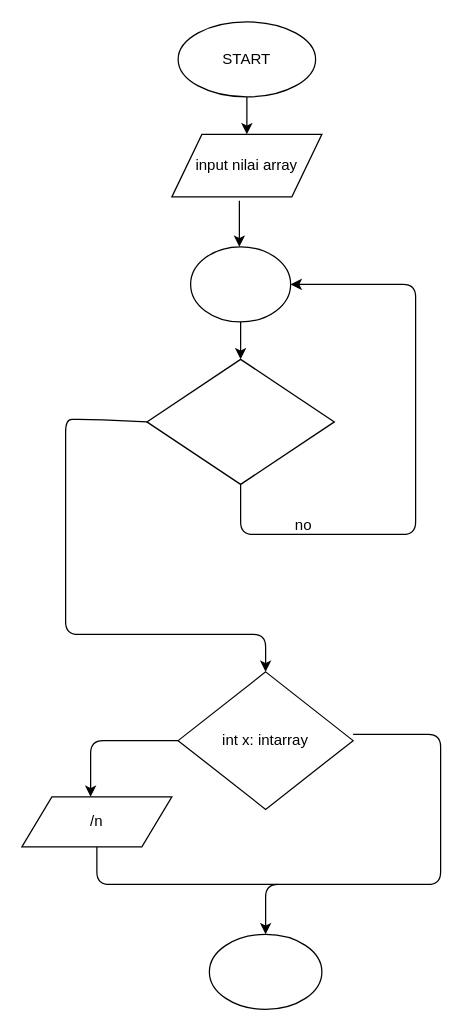
This 473x1031 diagram has some shape labels left out. The shapes that lost their labels are listed below. From the top down, each one's centre as x and y in pixels, then its label:
At [240,284]: "loop".
At [240,421]: "int x: int array".
